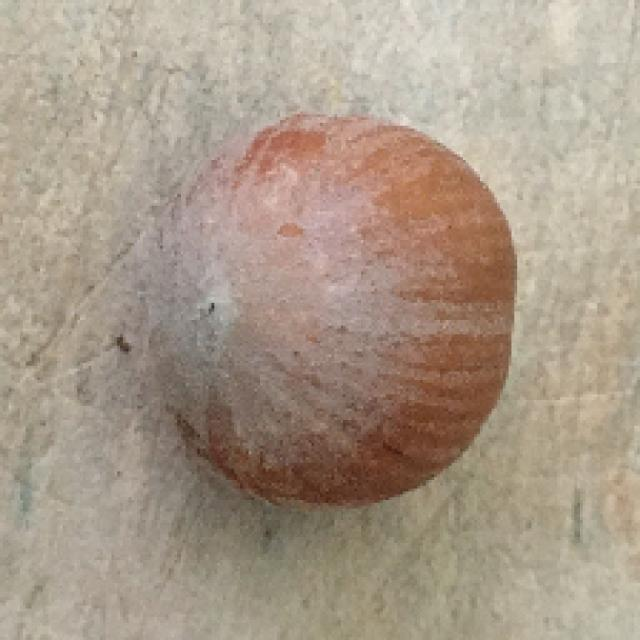QualityHazelnut: (127, 115, 519, 512)
